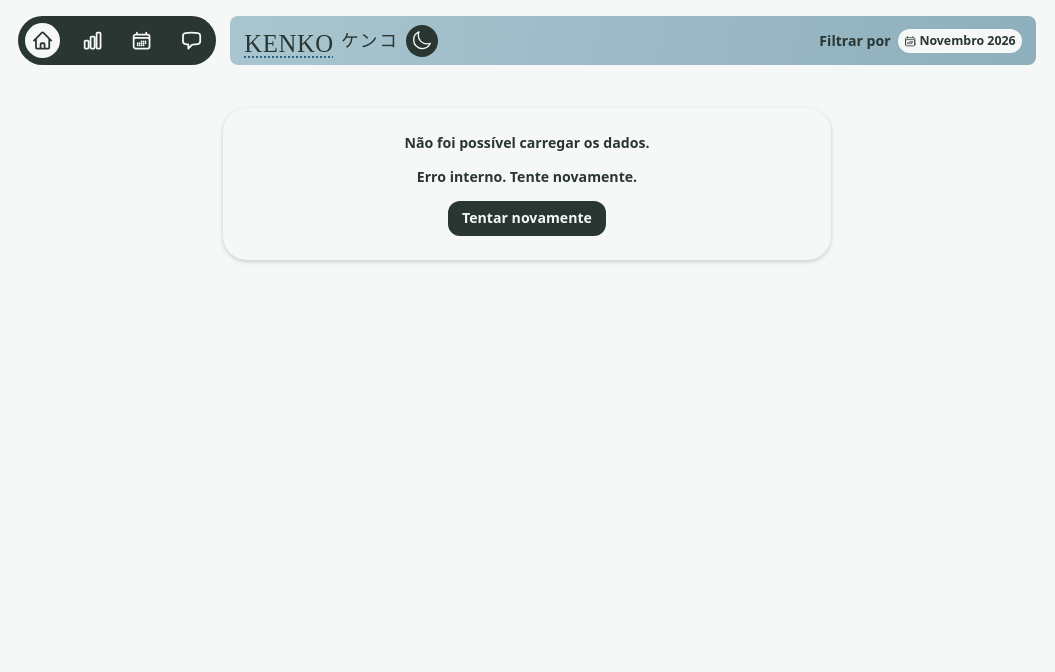
mostra o erro da API e busca de novo pelo botão
Expected: the message shows "Não foi possível carregar os dados.", top-left (404, 133), bottom-right (649, 152)
Expected: the element "Completas" is not shown
Click the button "Tentar novamente": click(527, 218) top-left (448, 201), bottom-right (606, 236)
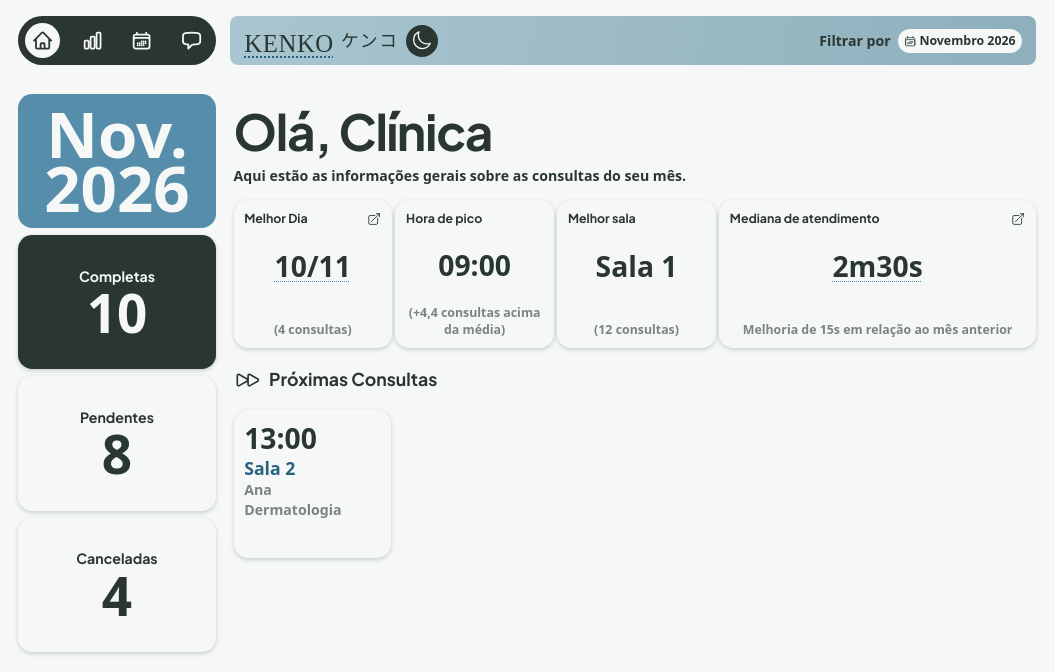
Now the element "Completas" shows "10", box top-left (87, 276), bottom-right (147, 349)
